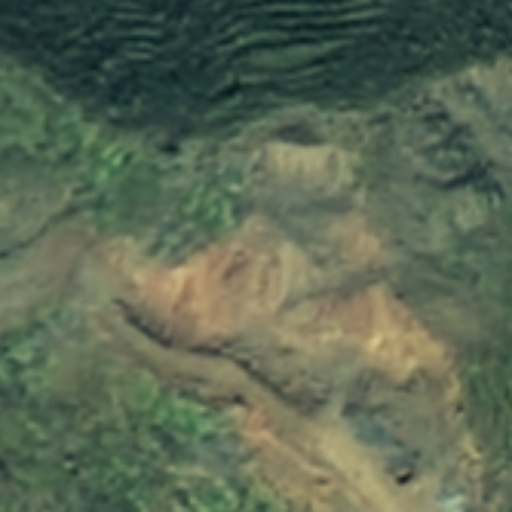landslide: (146, 229, 430, 347)
